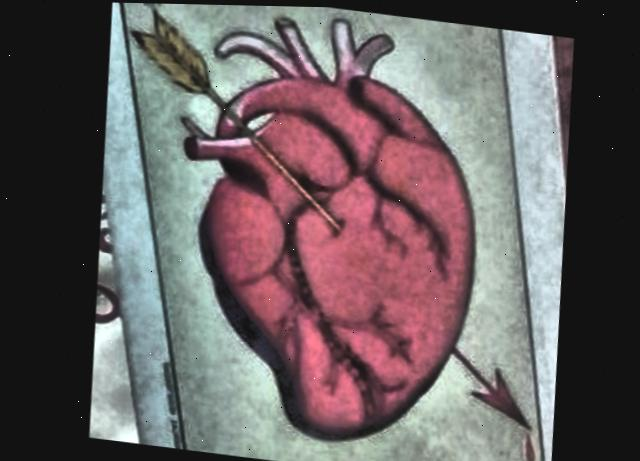El Corazon: (124, 2, 535, 461)
